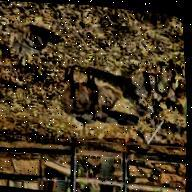boar: (45, 57, 128, 136)
